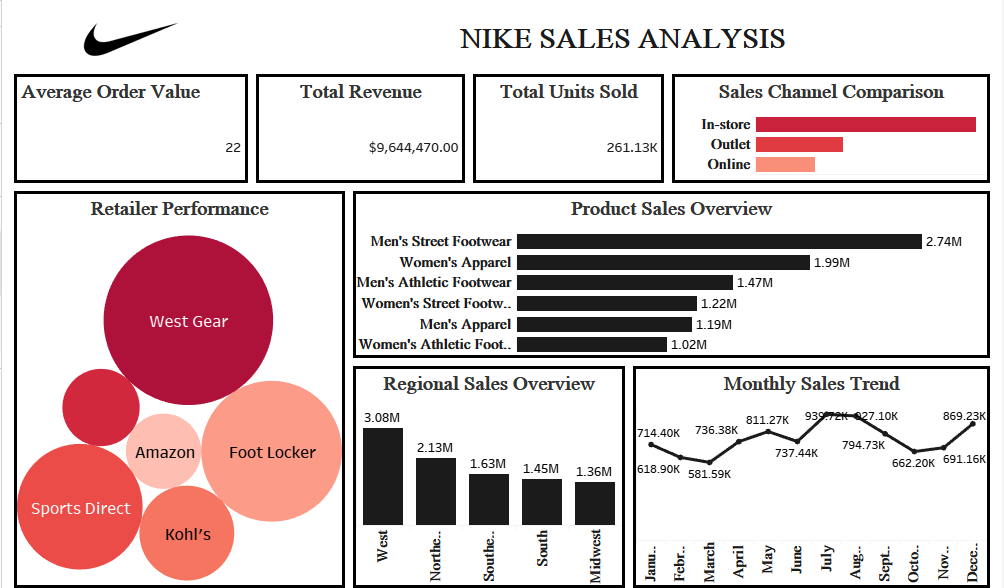

The dashboard page shown, as its layout file describes it:
{"tool":"tableau","page":{"name":"Dashboard 1","canvas":[1000,600],"ordinal":0},"visuals":[{"type":"image","param":"C:/Users/LENOVO/Downloads/nike icon.png","box":[8,8,242,62]},{"type":"text","box":[250,8,742,62]},{"type":"worksheet","title":"Sheet 6","mark":"Automatic","box":[8,70,242,117]},{"type":"worksheet","title":"Sheet 8","mark":"Automatic","box":[250,70,217,117]},{"type":"worksheet","title":"Sheet 9","mark":"Automatic","box":[467,70,199,117]},{"type":"worksheet","title":"Sheet 5","mark":"Automatic","rows":["Sales method"],"cols":["Calculation_396879731928666112"],"box":[666,70,326,117]},{"type":"worksheet","title":"Sheet 4","mark":"Circle","box":[8,187,339,405]},{"type":"worksheet","title":"Sheet 2","mark":"Automatic","rows":["Product"],"cols":["Total sales"],"box":[347,187,645,175]},{"type":"worksheet","title":"Sheet 1","mark":"Automatic","rows":["Total sales"],"cols":["Region"],"box":[347,362,280,230]},{"type":"worksheet","title":"Sheet 3","mark":"Automatic","rows":["Total sales"],"cols":["Invoice date"],"box":[627,362,364.9,230]}]}

Visuals, with their boxes in screenshot pixels (x1, y1, x2, y2), scaled from the page's 1000x600 canvas onto the 1004x588 screenshot:
image: bbox=(8, 8, 251, 69)
text: bbox=(251, 8, 996, 69)
"Sheet 6" worksheet: bbox=(8, 69, 251, 183)
"Sheet 8" worksheet: bbox=(251, 69, 469, 183)
"Sheet 9" worksheet: bbox=(469, 69, 669, 183)
"Sheet 5" worksheet: bbox=(669, 69, 996, 183)
"Sheet 4" worksheet (Circle marks): bbox=(8, 183, 348, 580)
"Sheet 2" worksheet: bbox=(348, 183, 996, 355)
"Sheet 1" worksheet: bbox=(348, 355, 630, 580)
"Sheet 3" worksheet: bbox=(630, 355, 996, 580)
